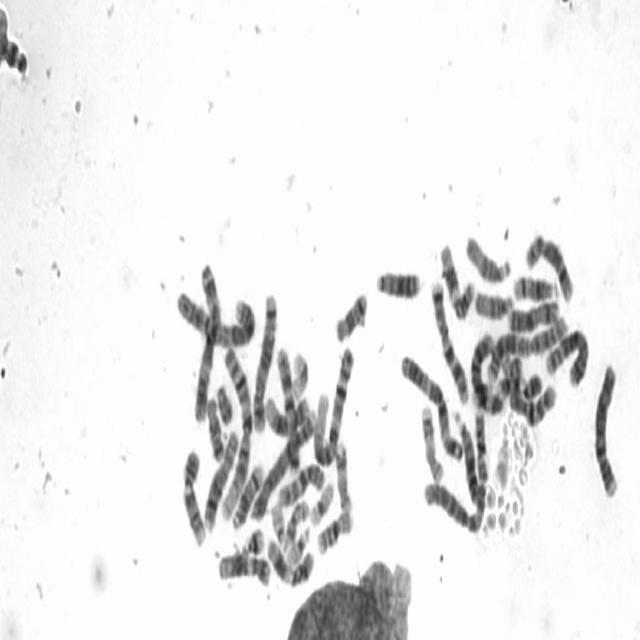A1: (218, 339, 254, 523), (309, 336, 356, 469)
A2: (484, 306, 569, 386), (172, 280, 257, 348)
A3: (396, 343, 465, 464), (189, 252, 223, 423)
B4: (247, 394, 317, 523), (590, 353, 620, 500)
B5: (248, 282, 279, 434), (542, 317, 590, 389)
C10: (505, 350, 557, 433), (274, 454, 326, 510)
C11: (435, 232, 476, 322), (264, 528, 316, 590)
C12: (214, 542, 272, 590), (261, 384, 311, 437)
C6: (464, 331, 513, 415), (418, 482, 487, 536)
C7: (427, 270, 470, 406), (272, 340, 301, 475)
C8: (520, 223, 575, 304), (200, 422, 240, 533)
C9: (178, 439, 207, 549), (498, 348, 544, 402)
D13: (450, 401, 488, 510), (372, 258, 423, 302)
D14: (229, 454, 265, 532), (509, 264, 560, 302)
D15: (461, 224, 513, 284), (470, 279, 516, 320)
E16: (313, 500, 355, 558), (470, 402, 490, 482)
E17: (417, 396, 445, 484), (331, 432, 354, 516)
E18: (331, 280, 369, 344), (202, 388, 226, 464)
F19: (306, 473, 336, 528), (288, 341, 310, 400)
F20: (281, 491, 310, 551), (497, 371, 518, 406)
G21: (2, 29, 29, 88), (238, 518, 266, 558)
G22: (284, 518, 311, 569), (267, 491, 287, 548)
X: (504, 290, 562, 334)
Y: (213, 374, 235, 426)
